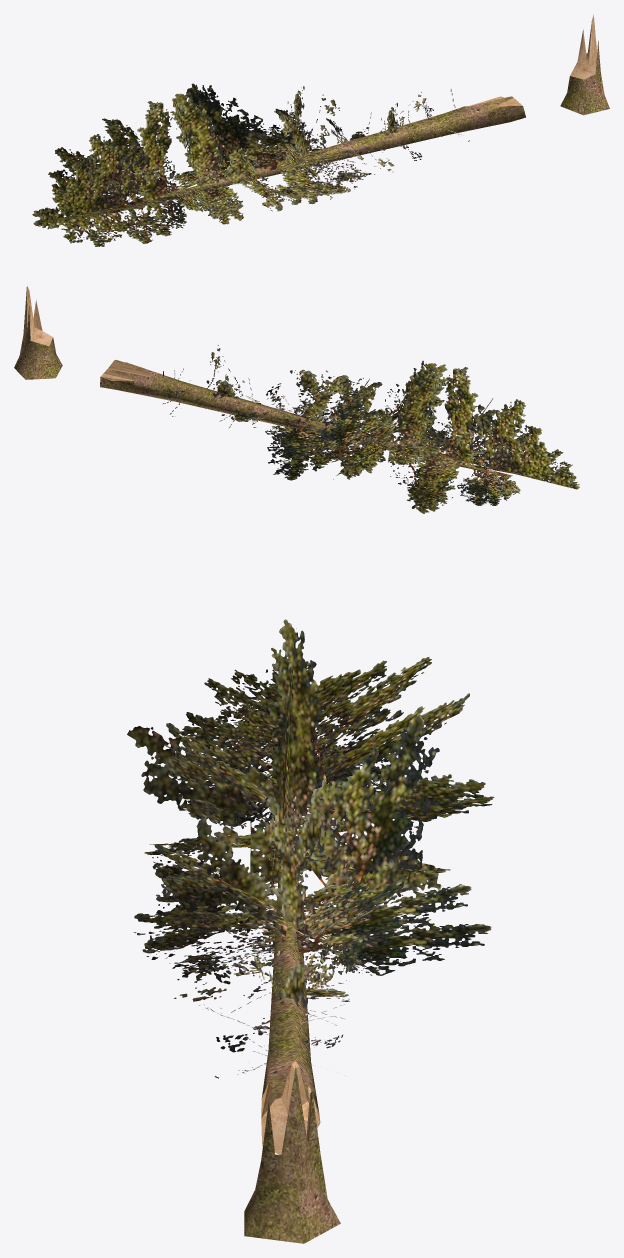
The model's file is SM_Tree_Fell_02.fbx.
3 views of the same model, one above another, from view 1: azimuth 30°, elevation 25°; view 2: azimuth 150°, elevation 25°; view 3: azimuth 270°, elevation 25° (orthographic). The views are drawn at different scales.
Visible parts, largest first — view 1: Tree_Fell_02; view 2: Tree_Fell_02; view 3: Tree_Fell_02.
Part boxes in pixels (bbox=[...]): Tree_Fell_02: bbox=[32, 14, 609, 246]; Tree_Fell_02: bbox=[14, 286, 579, 513]; Tree_Fell_02: bbox=[127, 619, 494, 1243].
Size of the model in its own units: 1452 by 461 by 294.
